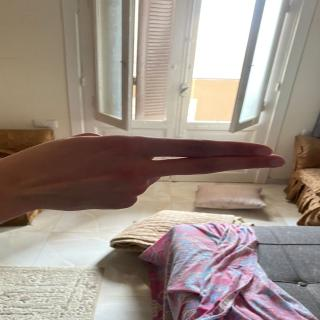AYN: (0, 127, 286, 218)
